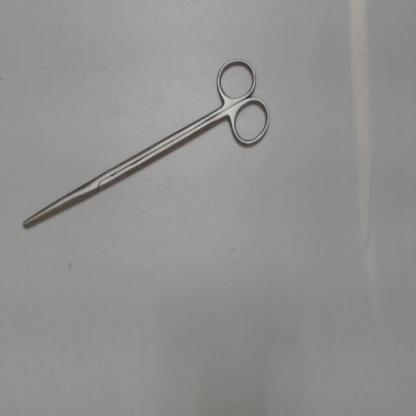9 Metzenbaum Scissors: (20, 51, 277, 232)
